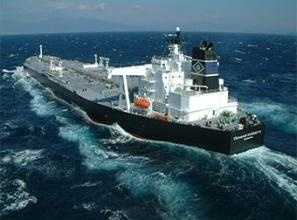warship: (22, 21, 274, 149)
